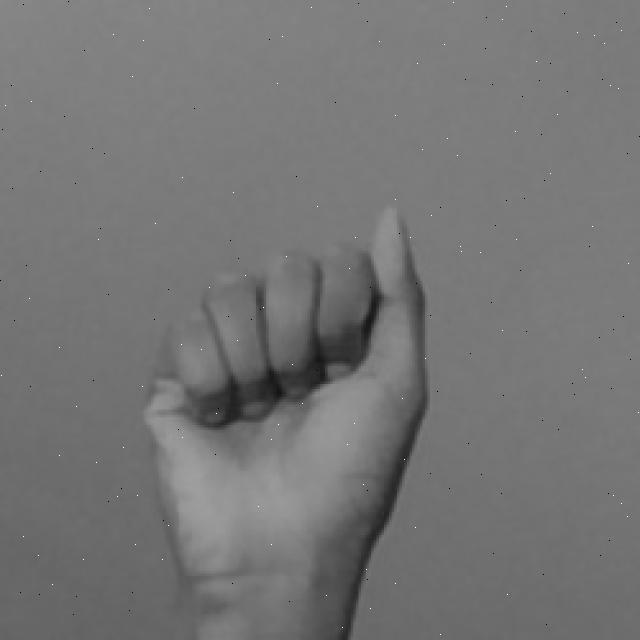A: (135, 197, 439, 640)
